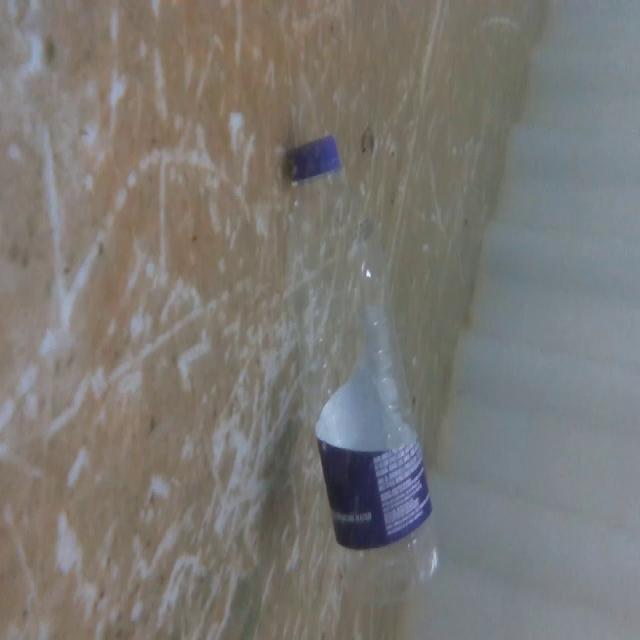plastic bottle: (277, 134, 447, 603)
